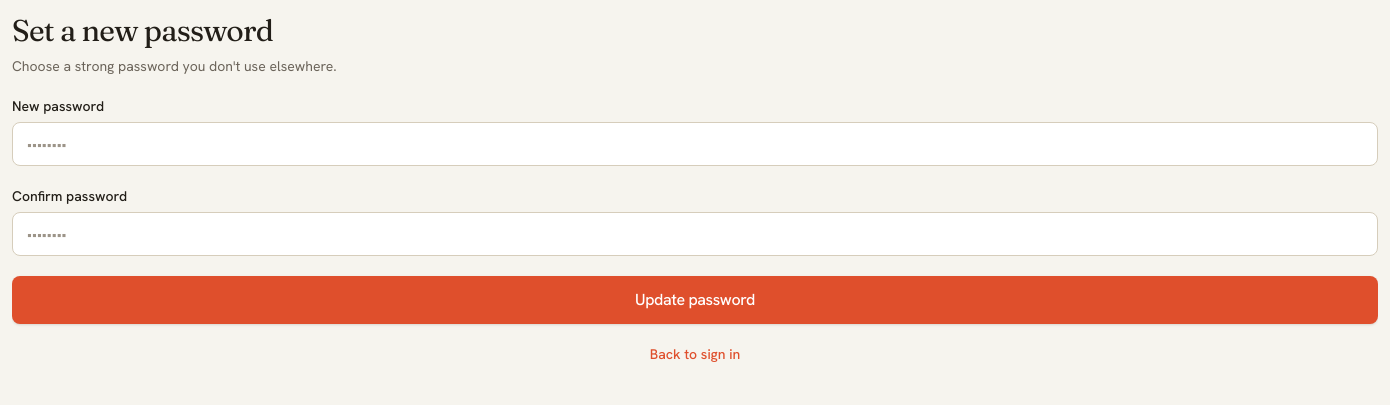
ResetPasswordForm › rejects a password shorter than 8 characters
This screenshot has width=1390, height=405.
In the password field labelled "New password": (695,144) [12,122,1378,166], type "short"
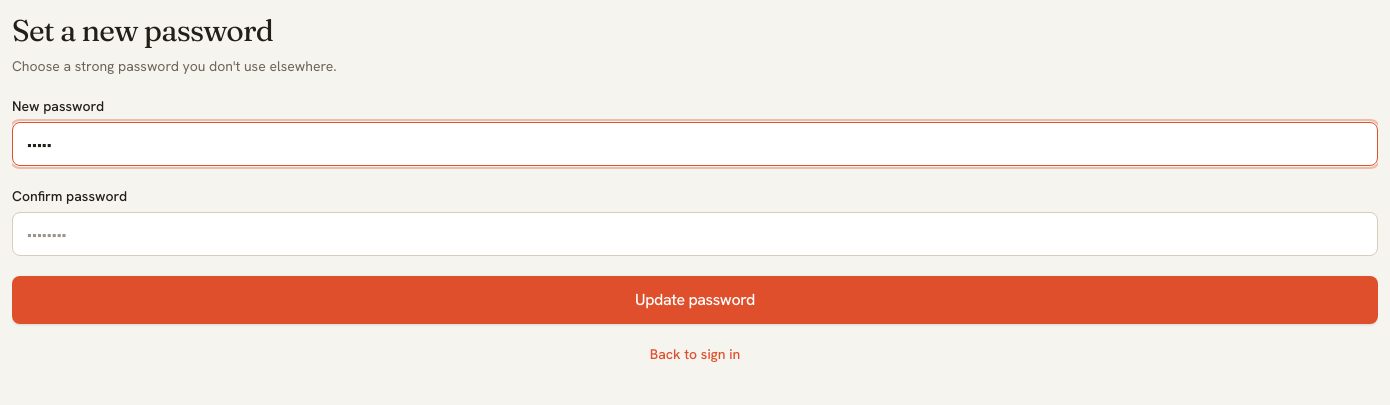
In the password field labelled "Confirm password": (695,234) [12,212,1378,256], type "short"
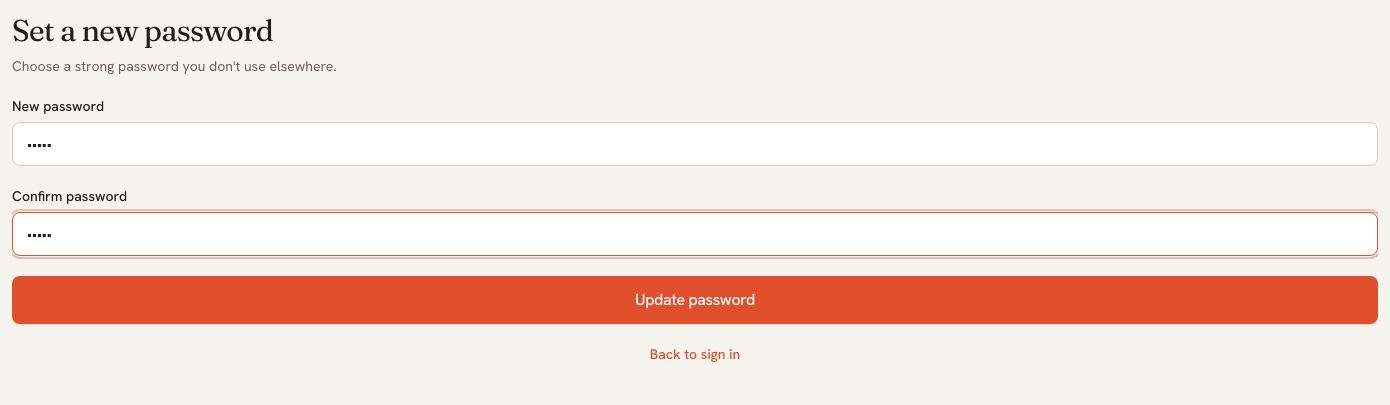
Click the button "Update password": (695,300) [12,276,1378,324]
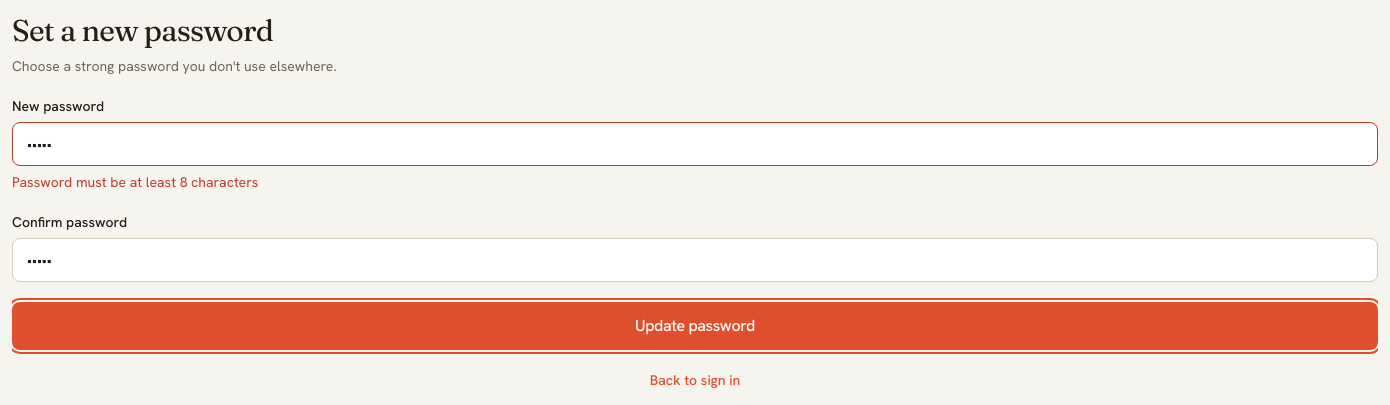
Check: the text "Password must be at least 8 characters" is shown, box [12,172,258,190]
